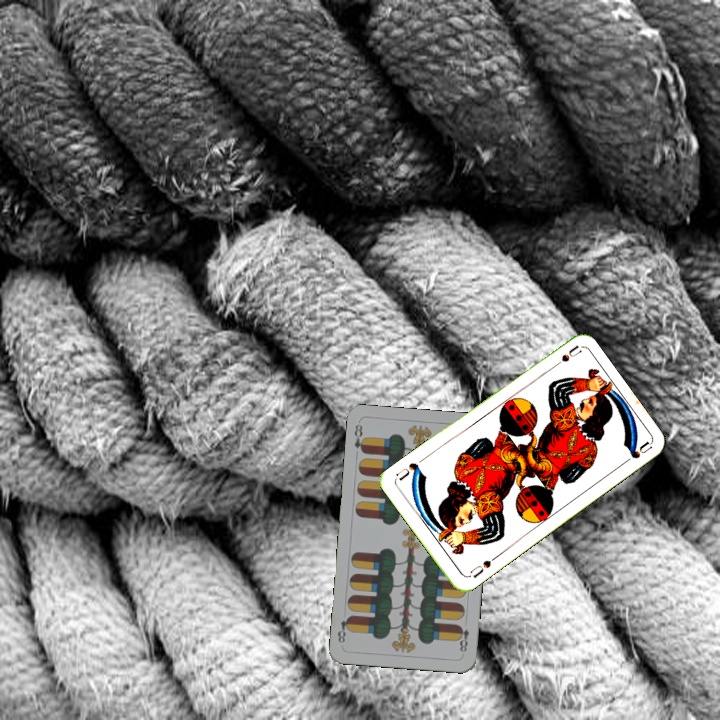E8: (454, 621, 472, 657), (350, 420, 368, 456)
SU: (546, 342, 583, 372), (464, 552, 500, 581)
